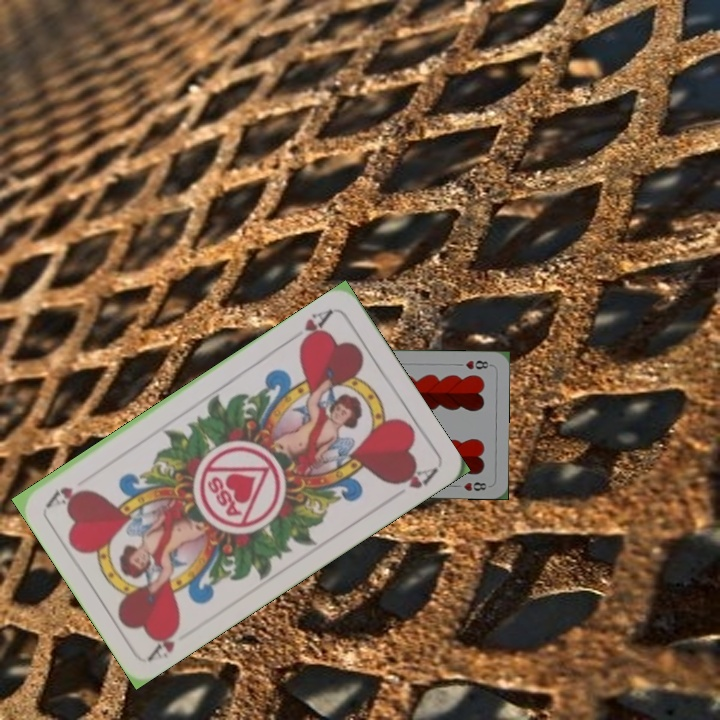H8: (462, 356, 493, 372)
HA: (284, 305, 336, 350), (144, 619, 184, 663)
